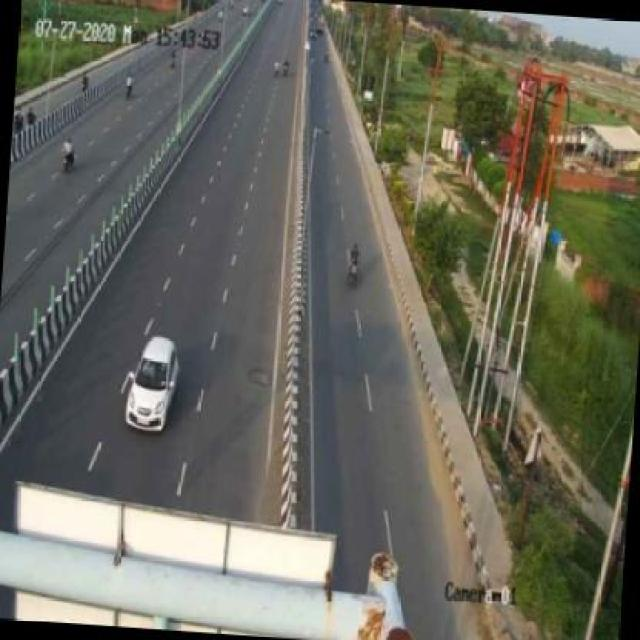car: (122, 330, 184, 436)
